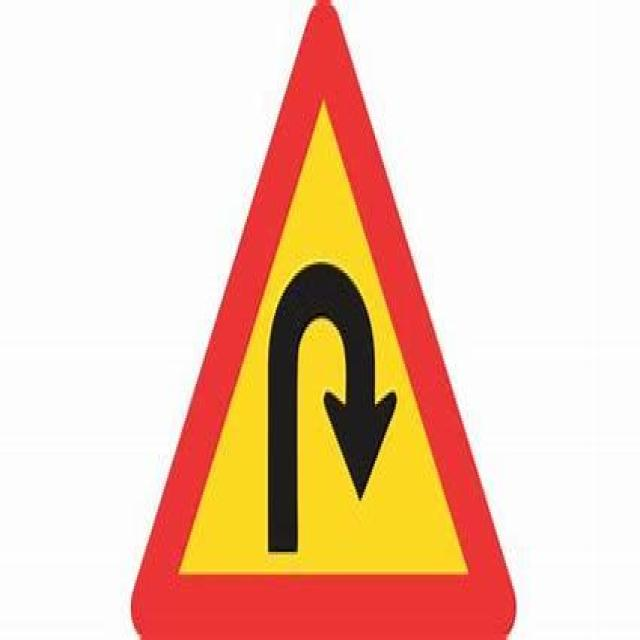RIGHT_HAIR_PIN_BEND: (127, 0, 518, 640)
